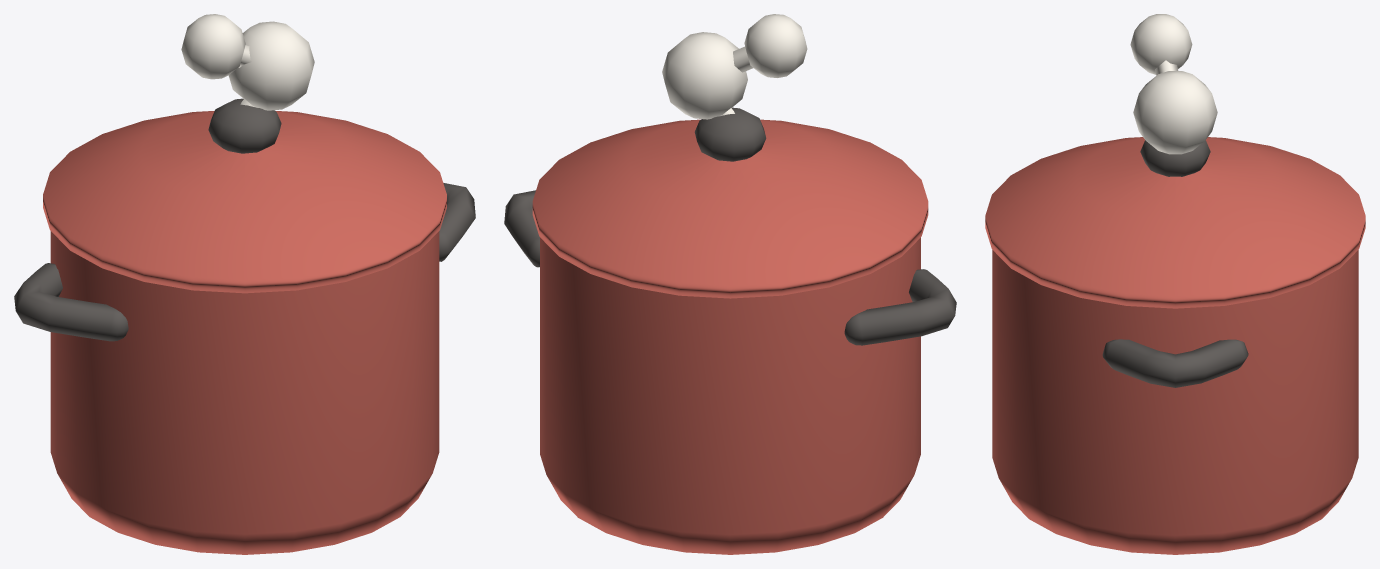
File: kitchen_pot.glb
The picture shows the model from 3 angles, left to right: view 1: azimuth 30°, elevation 25°; view 2: azimuth 150°, elevation 25°; view 3: azimuth 270°, elevation 25°; orthographic projection. The views are drawn at different scales.
Parts seen in each view (by area): view 1: kitchen_pot_mesh; view 2: kitchen_pot_mesh; view 3: kitchen_pot_mesh.
Boxes of the visible parts, x1,y1,x2,y2 form: kitchen_pot_mesh: (14, 14, 475, 554); kitchen_pot_mesh: (504, 14, 956, 554); kitchen_pot_mesh: (985, 14, 1365, 554).
Bounding box in the file's own units: 0.354 × 0.352 × 0.27.
